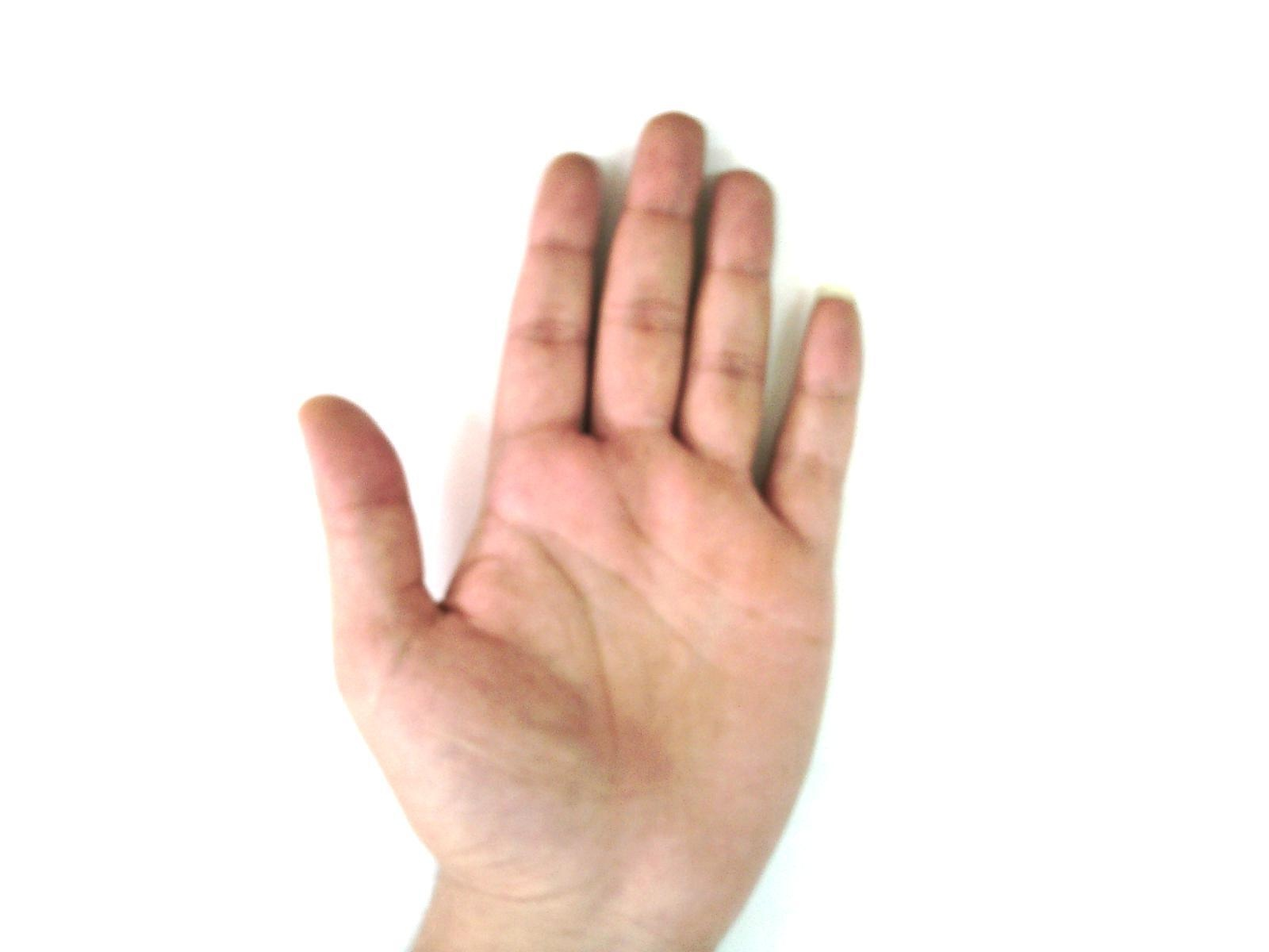open_palm: (296, 110, 868, 949)
